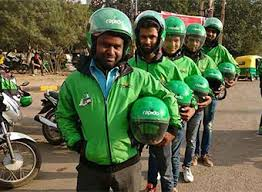helmet: (87, 9, 139, 67), (135, 7, 167, 65), (157, 7, 184, 58), (197, 9, 222, 44), (184, 17, 205, 51)
